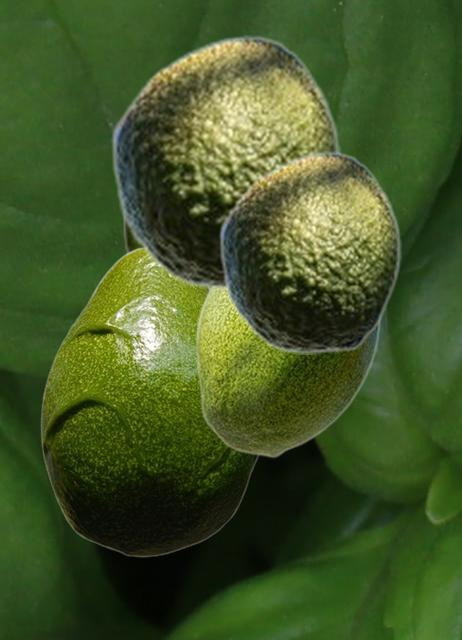avocado: (40, 247, 260, 556), (110, 35, 339, 288), (218, 151, 400, 353), (195, 289, 380, 457)
